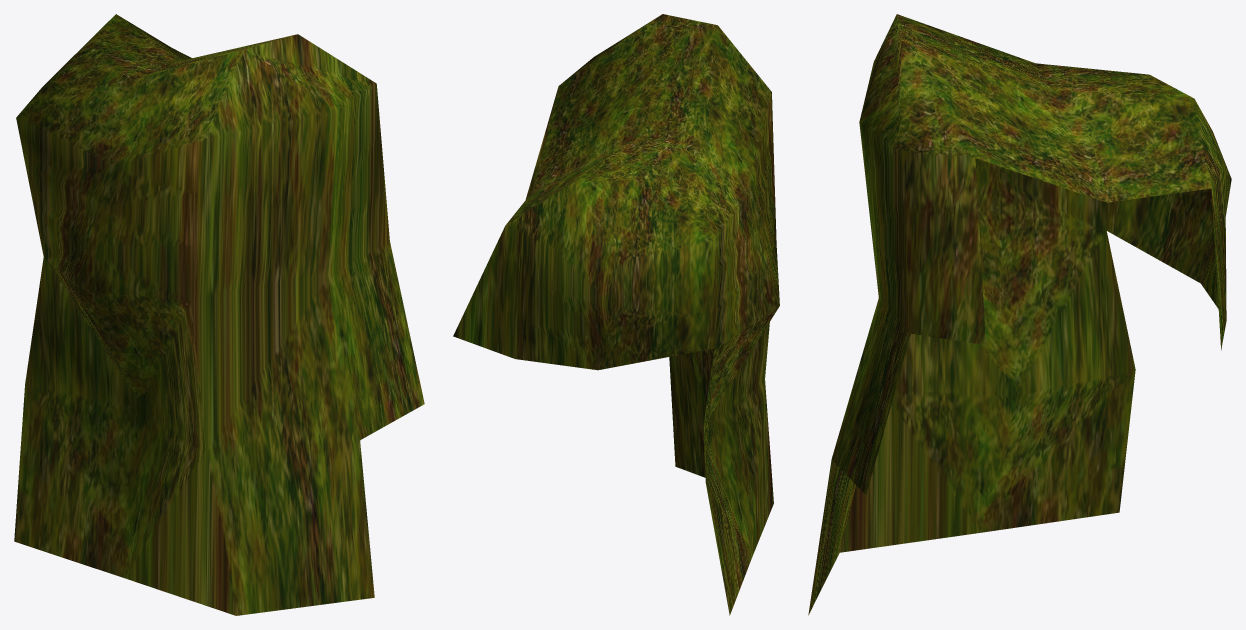
The model's file is TROLLHOLE02_RM_PSURF103.fbx.
The picture shows the model from 3 angles, left to right: view 1: azimuth 30°, elevation 25°; view 2: azimuth 150°, elevation 25°; view 3: azimuth 270°, elevation 25°; orthographic projection. The views are drawn at different scales.
Visible parts, largest first — view 1: TROLLHOLE02_RM_PSURF103; view 2: TROLLHOLE02_RM_PSURF103; view 3: TROLLHOLE02_RM_PSURF103.
Part boxes in pixels (left/top/right/bottom): TROLLHOLE02_RM_PSURF103: left=14, top=14, right=424, bottom=615; TROLLHOLE02_RM_PSURF103: left=453, top=14, right=779, bottom=615; TROLLHOLE02_RM_PSURF103: left=808, top=14, right=1231, bottom=615.
Bounding box in the file's own units: 39792 × 69089 × 47379.
Materials: 1 (1 with a texture image).
